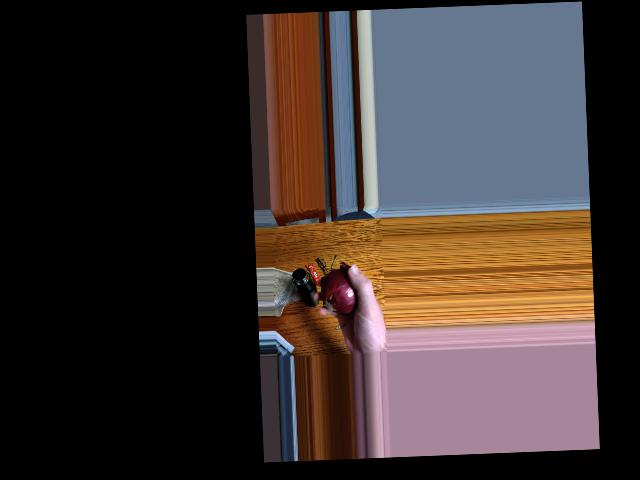onion: (324, 269, 360, 311)
